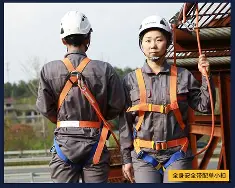safety belt: (37, 57, 111, 165), (121, 64, 190, 170)
